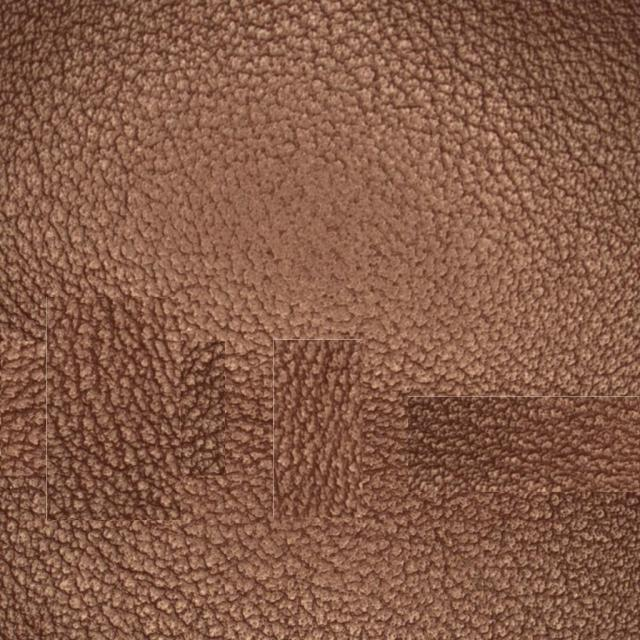Healed Injury: (44, 296, 394, 550), (406, 352, 632, 515)
